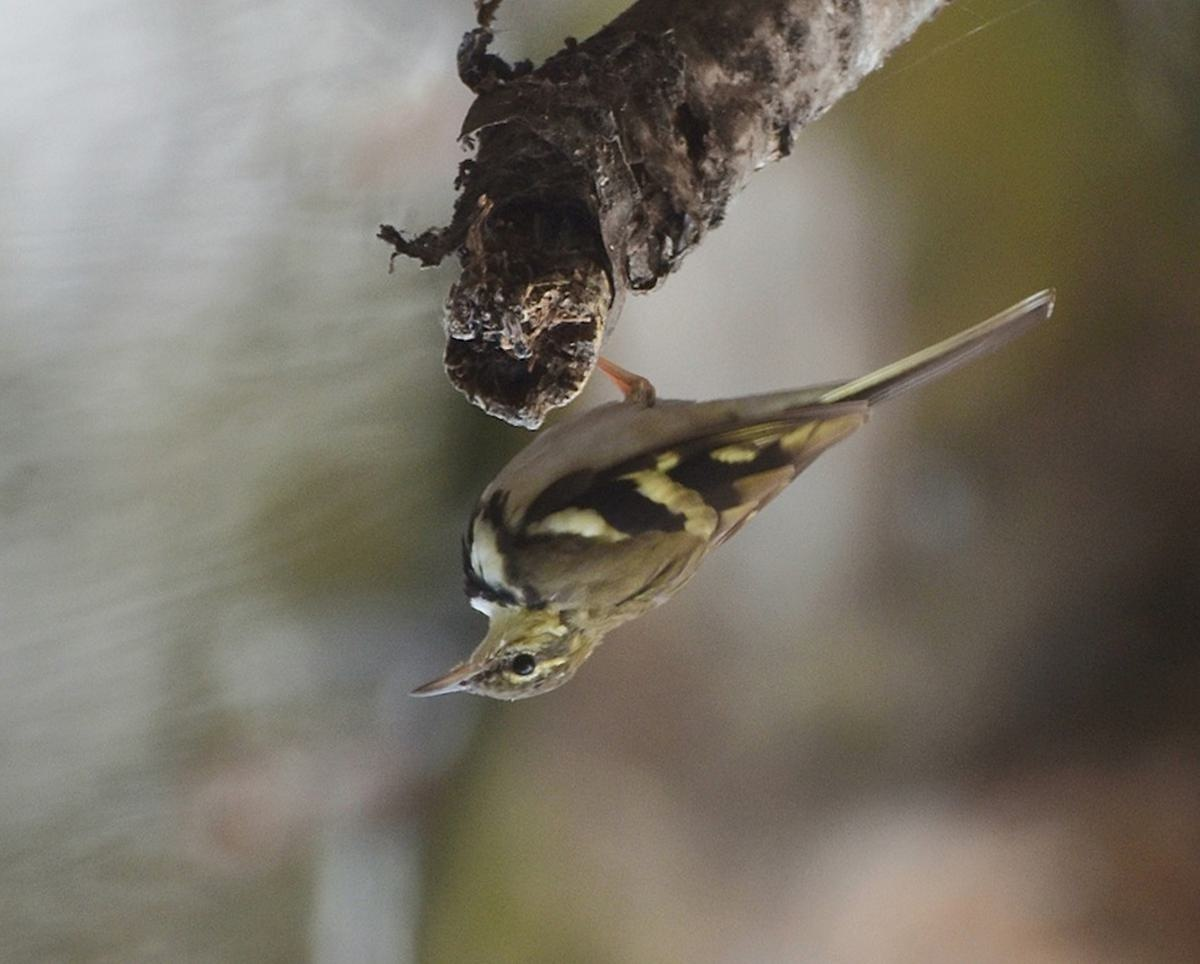wagtail: (384, 242, 1090, 750)
